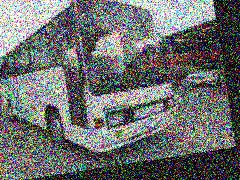bus: (0, 0, 185, 166)
